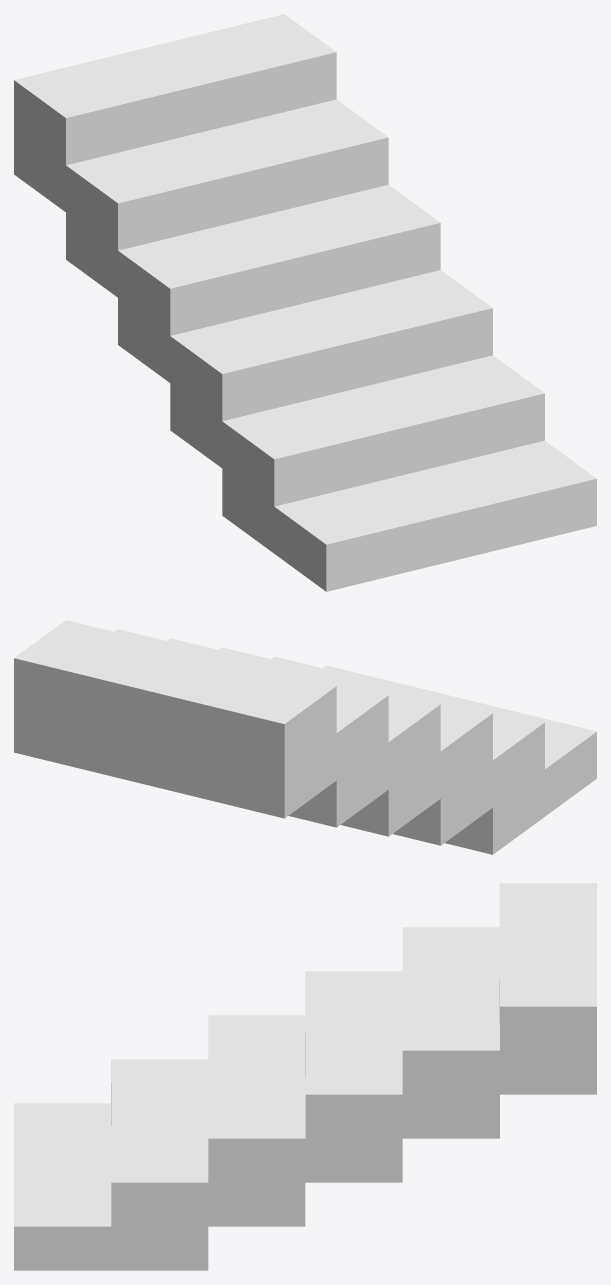
The model's file is StairsLongV1.fbx.
3 views of the same model, one above another, from view 1: azimuth 30°, elevation 25°; view 2: azimuth 150°, elevation 25°; view 3: azimuth 270°, elevation 25° (orthographic). The views are drawn at different scales.
Visible parts, largest first — view 1: StairsLongV1; view 2: StairsLongV1; view 3: StairsLongV1.
Part boxes in pixels (x1=…): StairsLongV1: x1=14, y1=14, x2=596, y2=591; StairsLongV1: x1=14, y1=620, x2=596, y2=854; StairsLongV1: x1=14, y1=883, x2=596, y2=1270.
Bounding box in the file's own units: 100 × 100 × 200.
